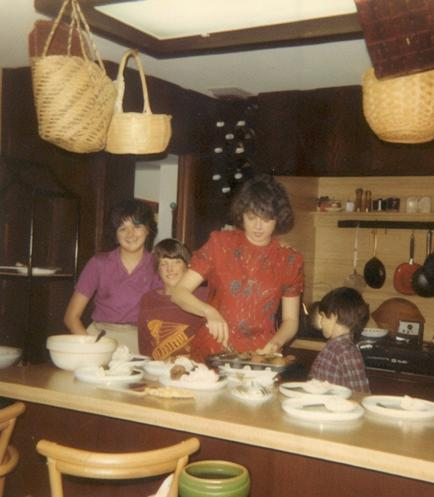chair: (33, 434, 199, 497), (2, 401, 23, 497)
person: (171, 171, 303, 365), (65, 200, 163, 357), (138, 239, 215, 365), (306, 284, 371, 394)
pottedplant: (175, 459, 250, 497)
